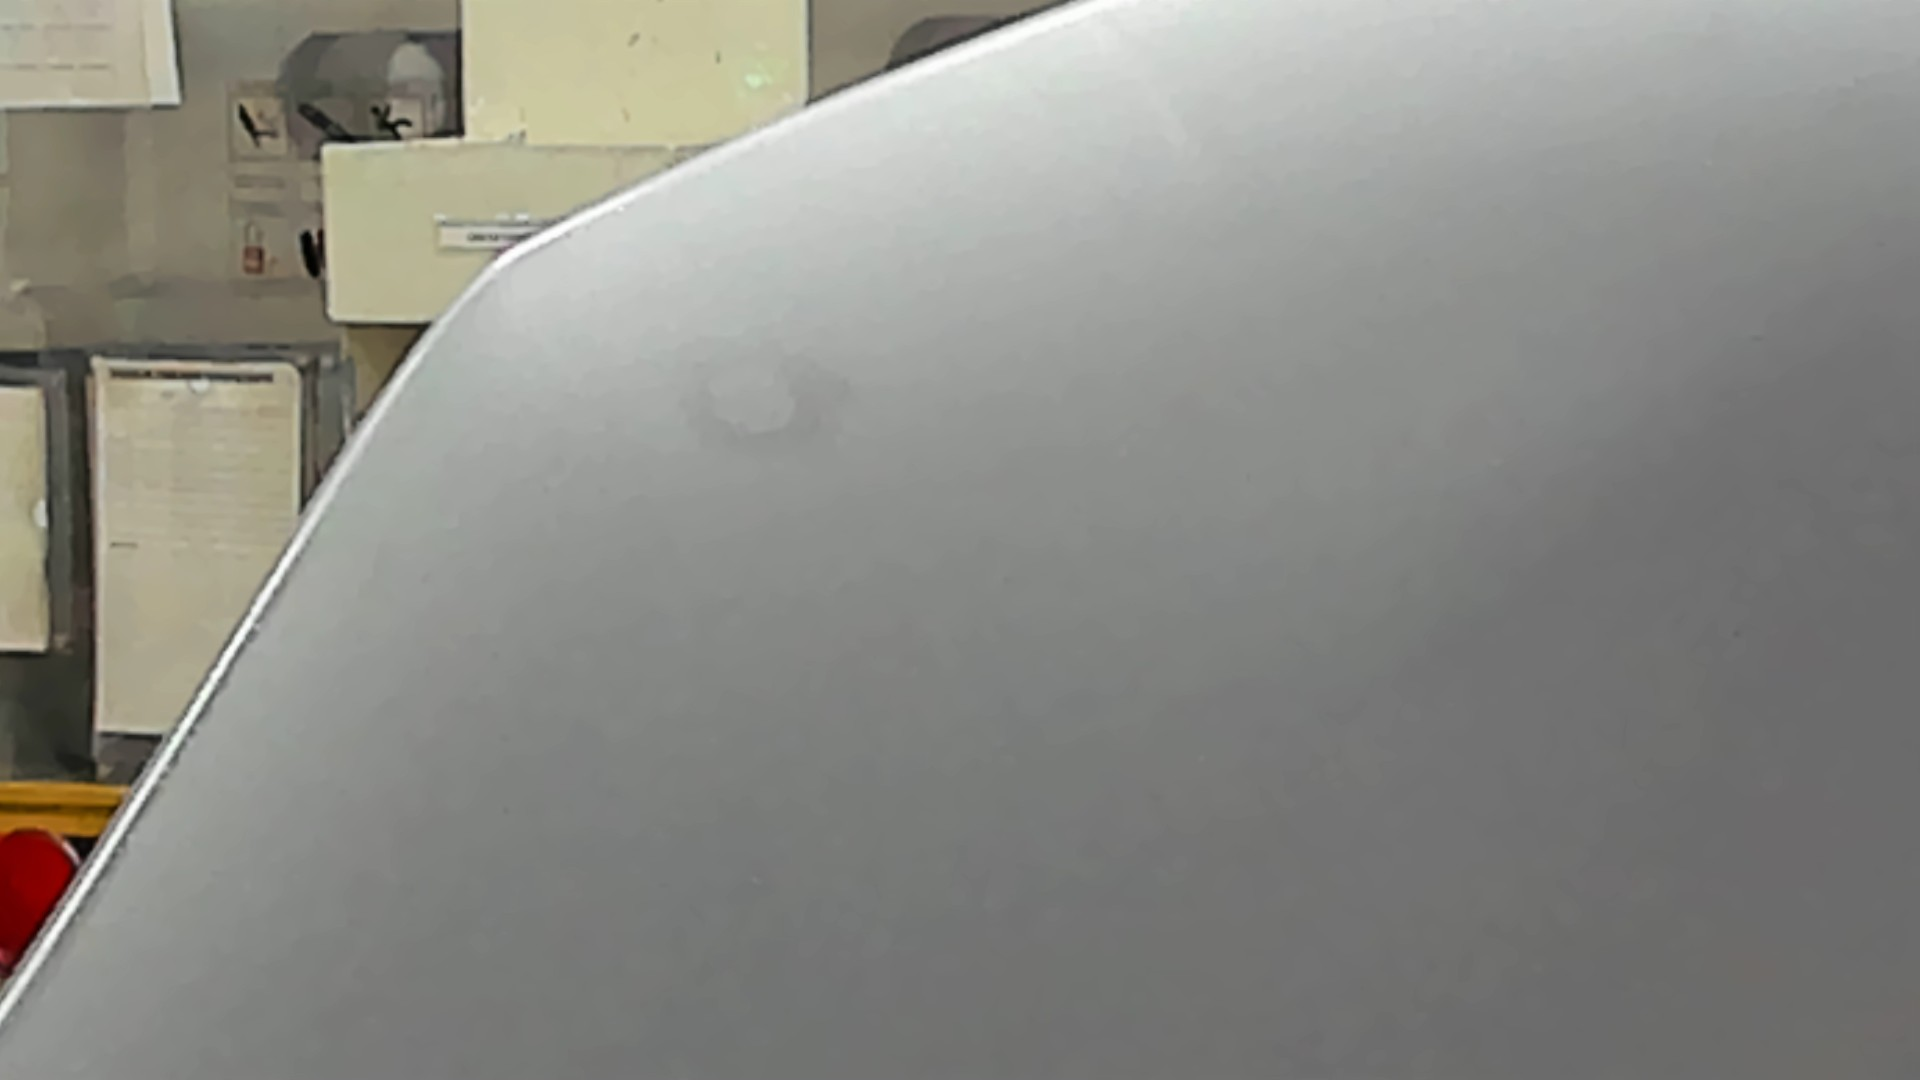capo: (803, 144, 1920, 1080)
